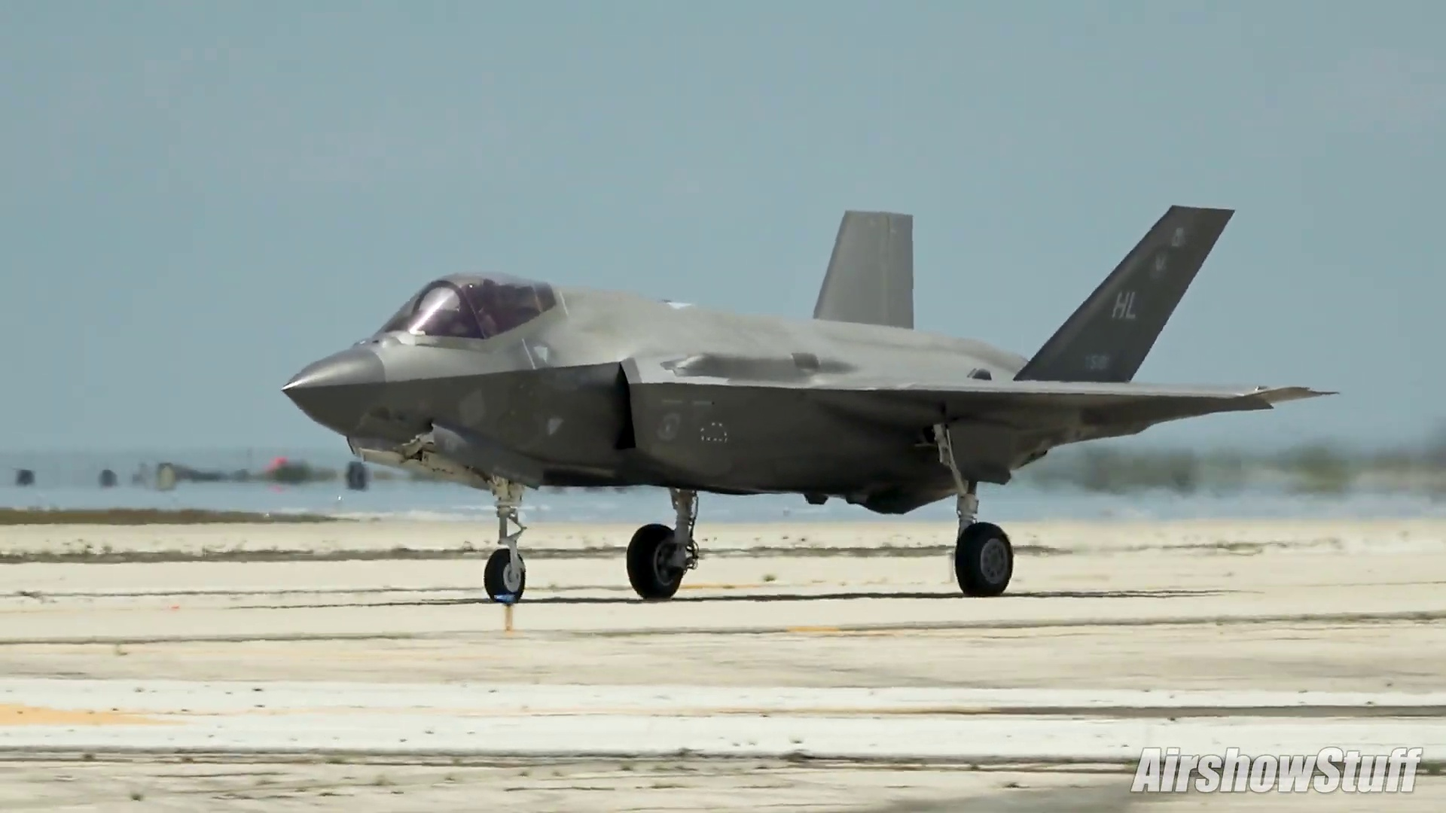F35: (277, 205, 1341, 602)
